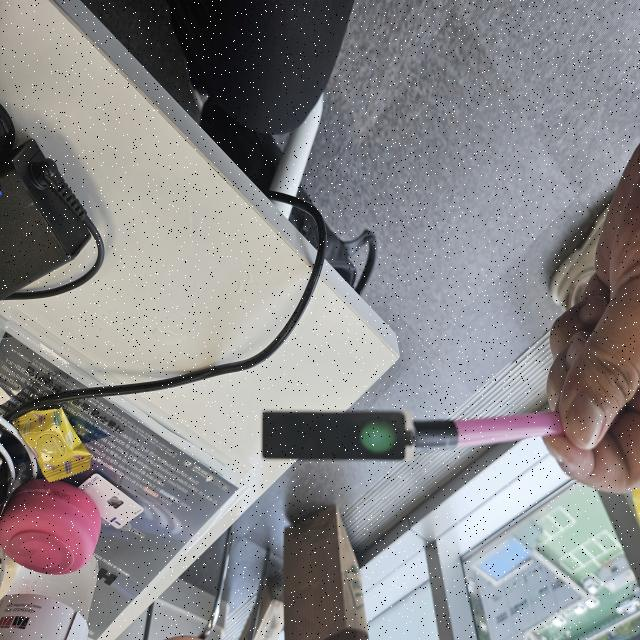traffic light: (262, 410, 416, 463)
